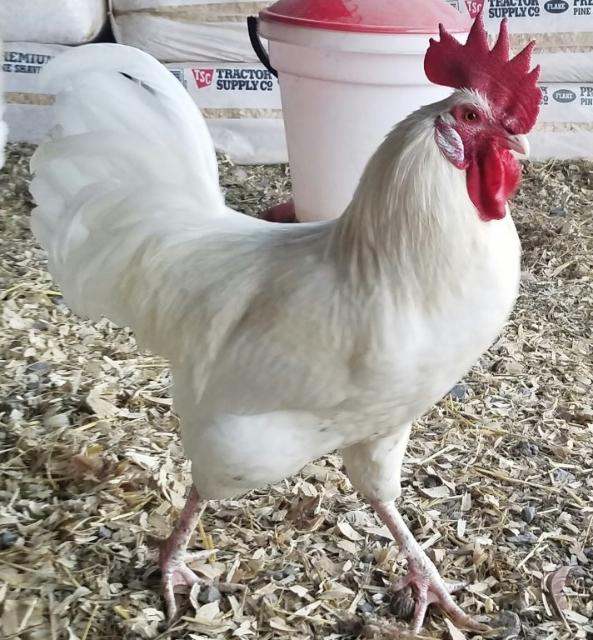Chicken: (29, 10, 543, 638)
